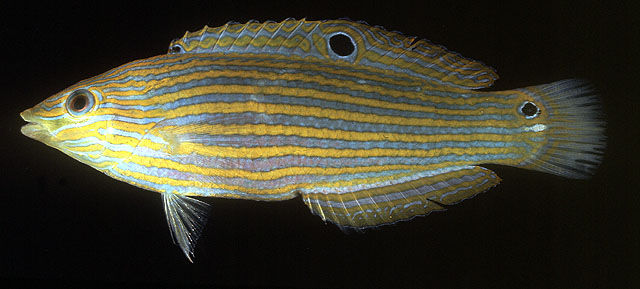fish: (20, 18, 608, 264)
